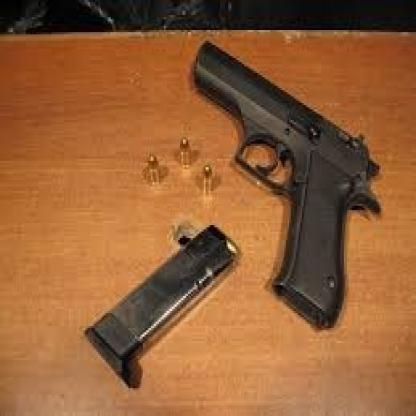Pistol: (134, 26, 399, 339)
